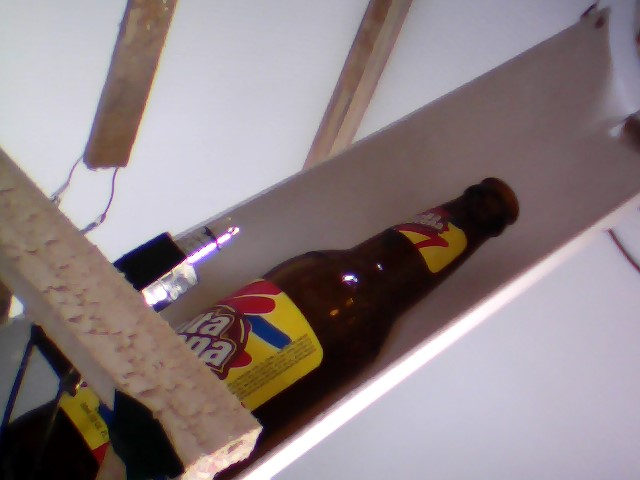vidrio: (184, 172, 541, 432)
